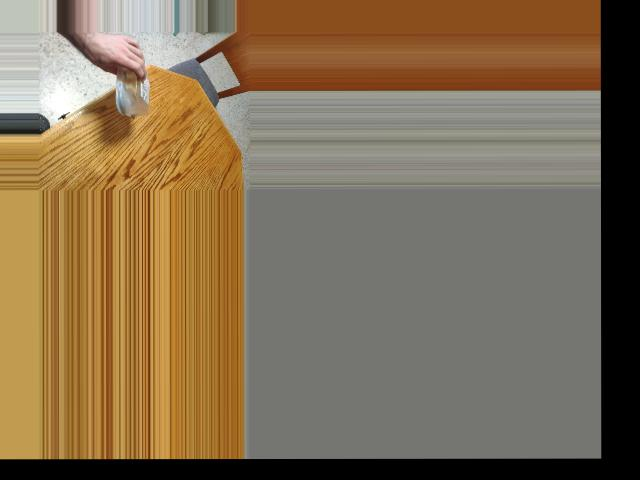cheese: (104, 47, 159, 112)
